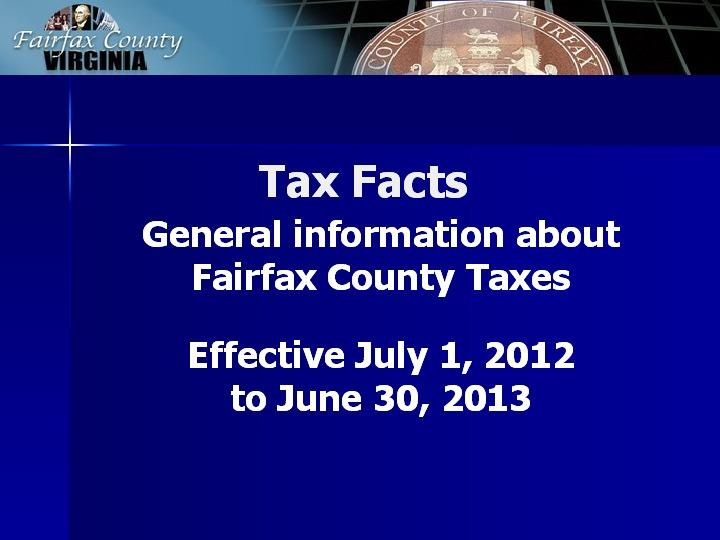subtitle: (111, 141, 705, 446)
title: (9, 16, 199, 79)
